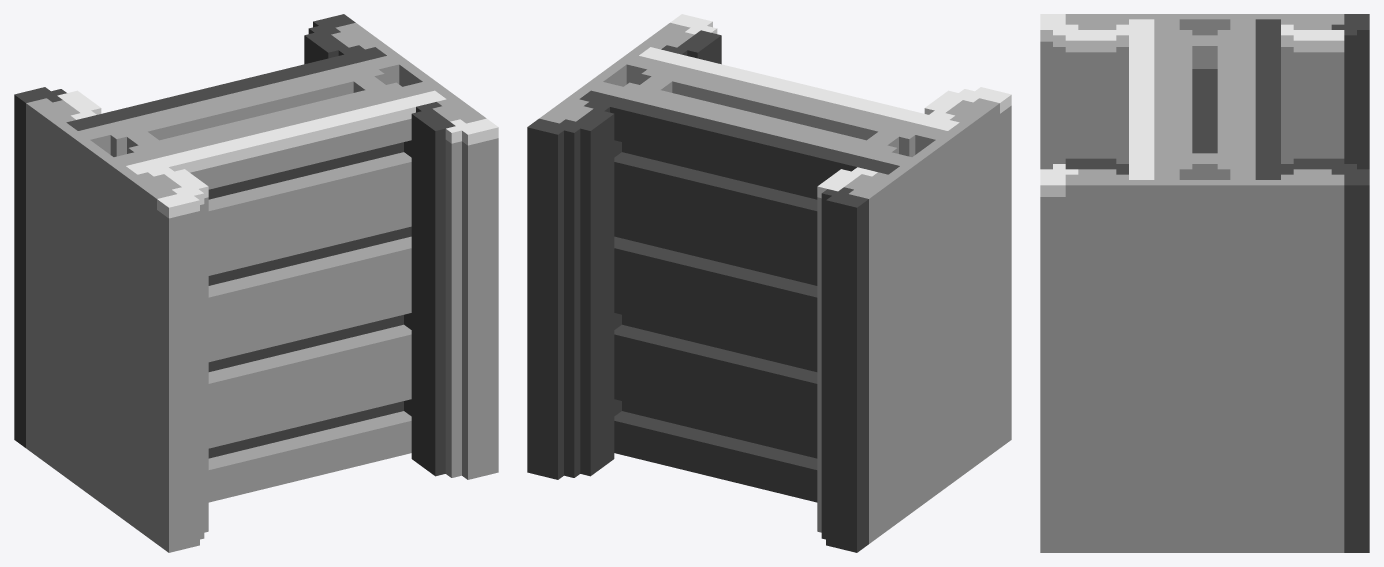
Rendered from Gate.obj.
3 views of the same model, side by side, from view 1: azimuth 30°, elevation 25°; view 2: azimuth 150°, elevation 25°; view 3: azimuth 270°, elevation 25° (orthographic). The views are drawn at different scales.
Size of the model in its own units: 32 by 32 by 26.
1 material, 1 textured.
